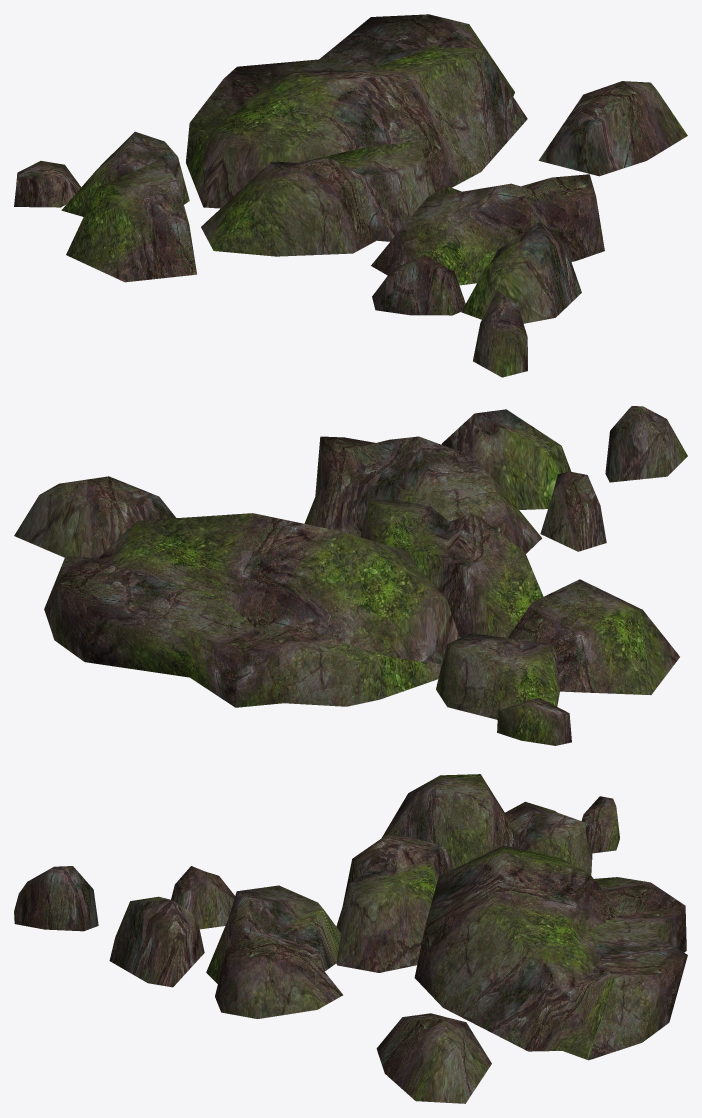
Rendered from S_Rock_Green034.FBX.
The picture shows the model from 3 angles, top to bottom: view 1: azimuth 30°, elevation 25°; view 2: azimuth 150°, elevation 25°; view 3: azimuth 270°, elevation 25°; orthographic projection. The views are drawn at different scales.
Visible parts, largest first — view 1: S_Rock_Green034; view 2: S_Rock_Green034; view 3: S_Rock_Green034.
Part boxes in pixels (<box>): S_Rock_Green034: <box>14,14,687,377</box>; S_Rock_Green034: <box>14,406,687,745</box>; S_Rock_Green034: <box>14,774,687,1103</box>.
Size of the model in its own units: 295 by 293 by 46.12.
